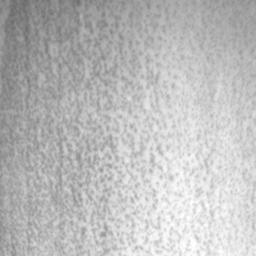Pitted surface: (0, 13, 256, 256)
